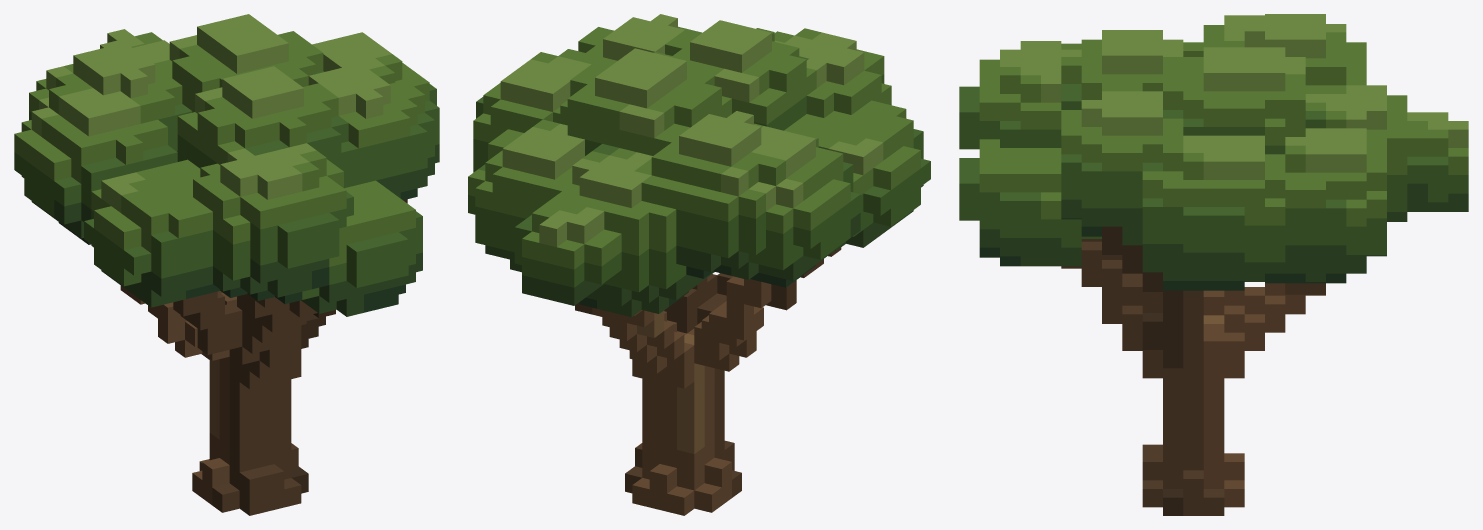
The model's file is oak_ancient_2.glb.
3 renders of one model, left to right at view 1: azimuth 30°, elevation 25°; view 2: azimuth 150°, elevation 25°; view 3: azimuth 270°, elevation 25°, orthographic. The views are drawn at different scales.
Visible parts, largest first — view 1: oak_ancient_2; view 2: oak_ancient_2; view 3: oak_ancient_2.
Boxes of the visible parts, x1=… form: oak_ancient_2: x1=14, y1=14, x2=439, y2=515; oak_ancient_2: x1=468, y1=14, x2=930, y2=515; oak_ancient_2: x1=959, y1=14, x2=1468, y2=515.
Size of the model in its own units: 21 by 24 by 25.
